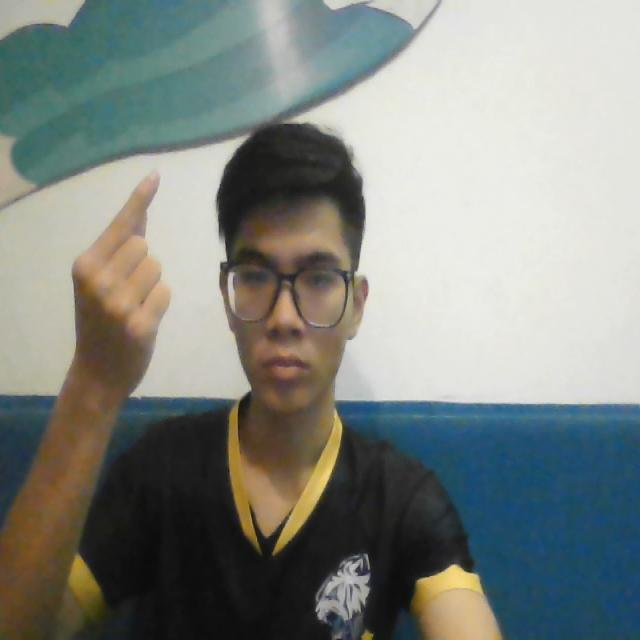G: (61, 160, 174, 398)
